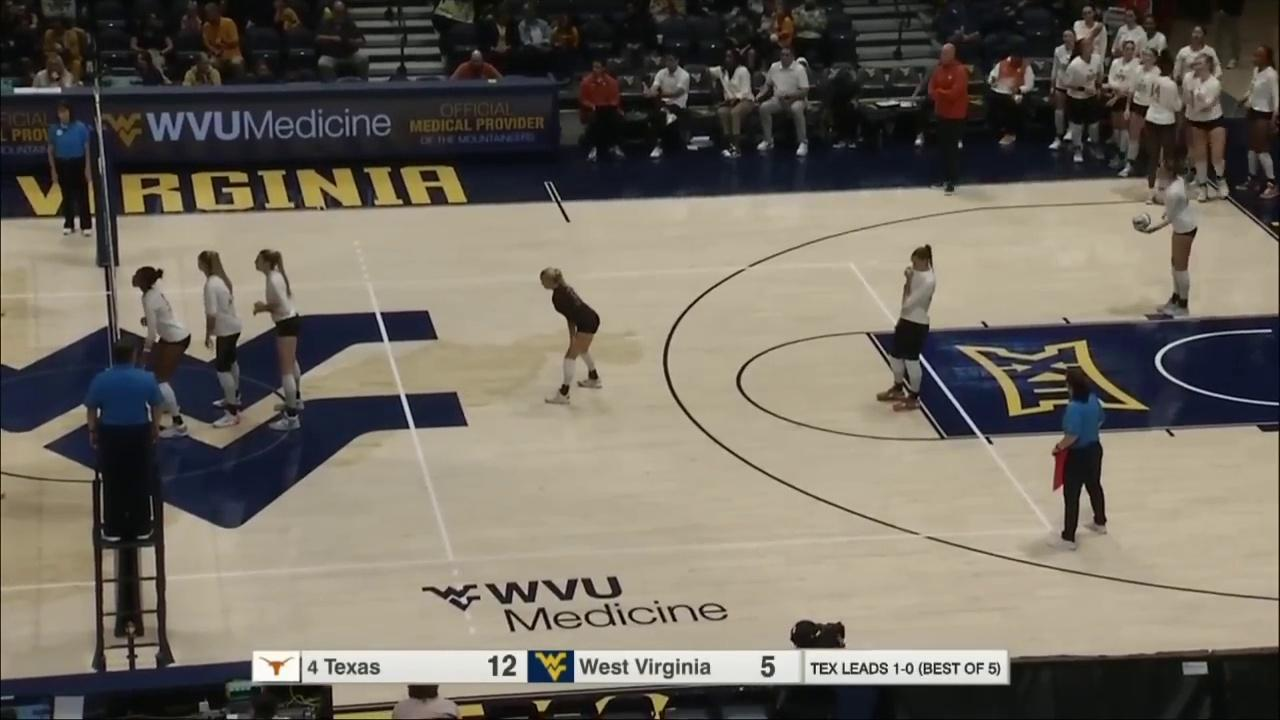player: (877, 243, 937, 412), (130, 265, 190, 434), (253, 247, 307, 429), (193, 251, 245, 427), (539, 269, 605, 400), (1149, 158, 1200, 320)
refree: (87, 339, 162, 527), (1049, 372, 1109, 547), (45, 101, 95, 236)
